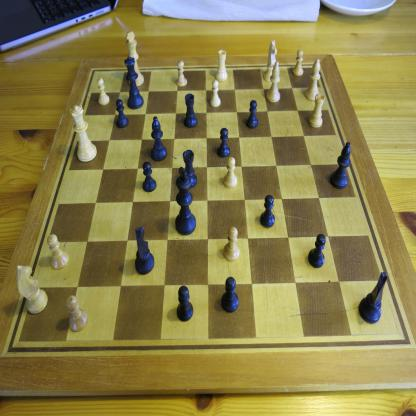black-bishop: (330, 141, 351, 190), (150, 115, 168, 162)
black-king: (175, 166, 197, 236)
black-knight: (358, 270, 389, 324), (134, 225, 155, 276)
black-pawn: (221, 276, 240, 314), (176, 284, 194, 323), (308, 233, 326, 269), (260, 194, 275, 229), (142, 161, 157, 193), (217, 127, 231, 159), (116, 98, 130, 129), (246, 100, 260, 130)
black-queen: (124, 56, 145, 110)
black-rook: (182, 149, 198, 190), (184, 92, 198, 130)
white-bishop: (304, 58, 321, 101), (266, 62, 281, 104)
white-king: (125, 30, 145, 88)
white-knight: (16, 264, 48, 316), (262, 38, 278, 83)
white-pawn: (66, 294, 89, 334), (46, 233, 70, 271), (222, 226, 240, 262), (223, 156, 238, 189), (97, 76, 110, 106), (175, 60, 188, 88), (292, 48, 304, 77), (209, 79, 221, 108)
white-queen: (70, 105, 97, 164)
white-rook: (308, 92, 326, 129), (214, 50, 229, 82)
